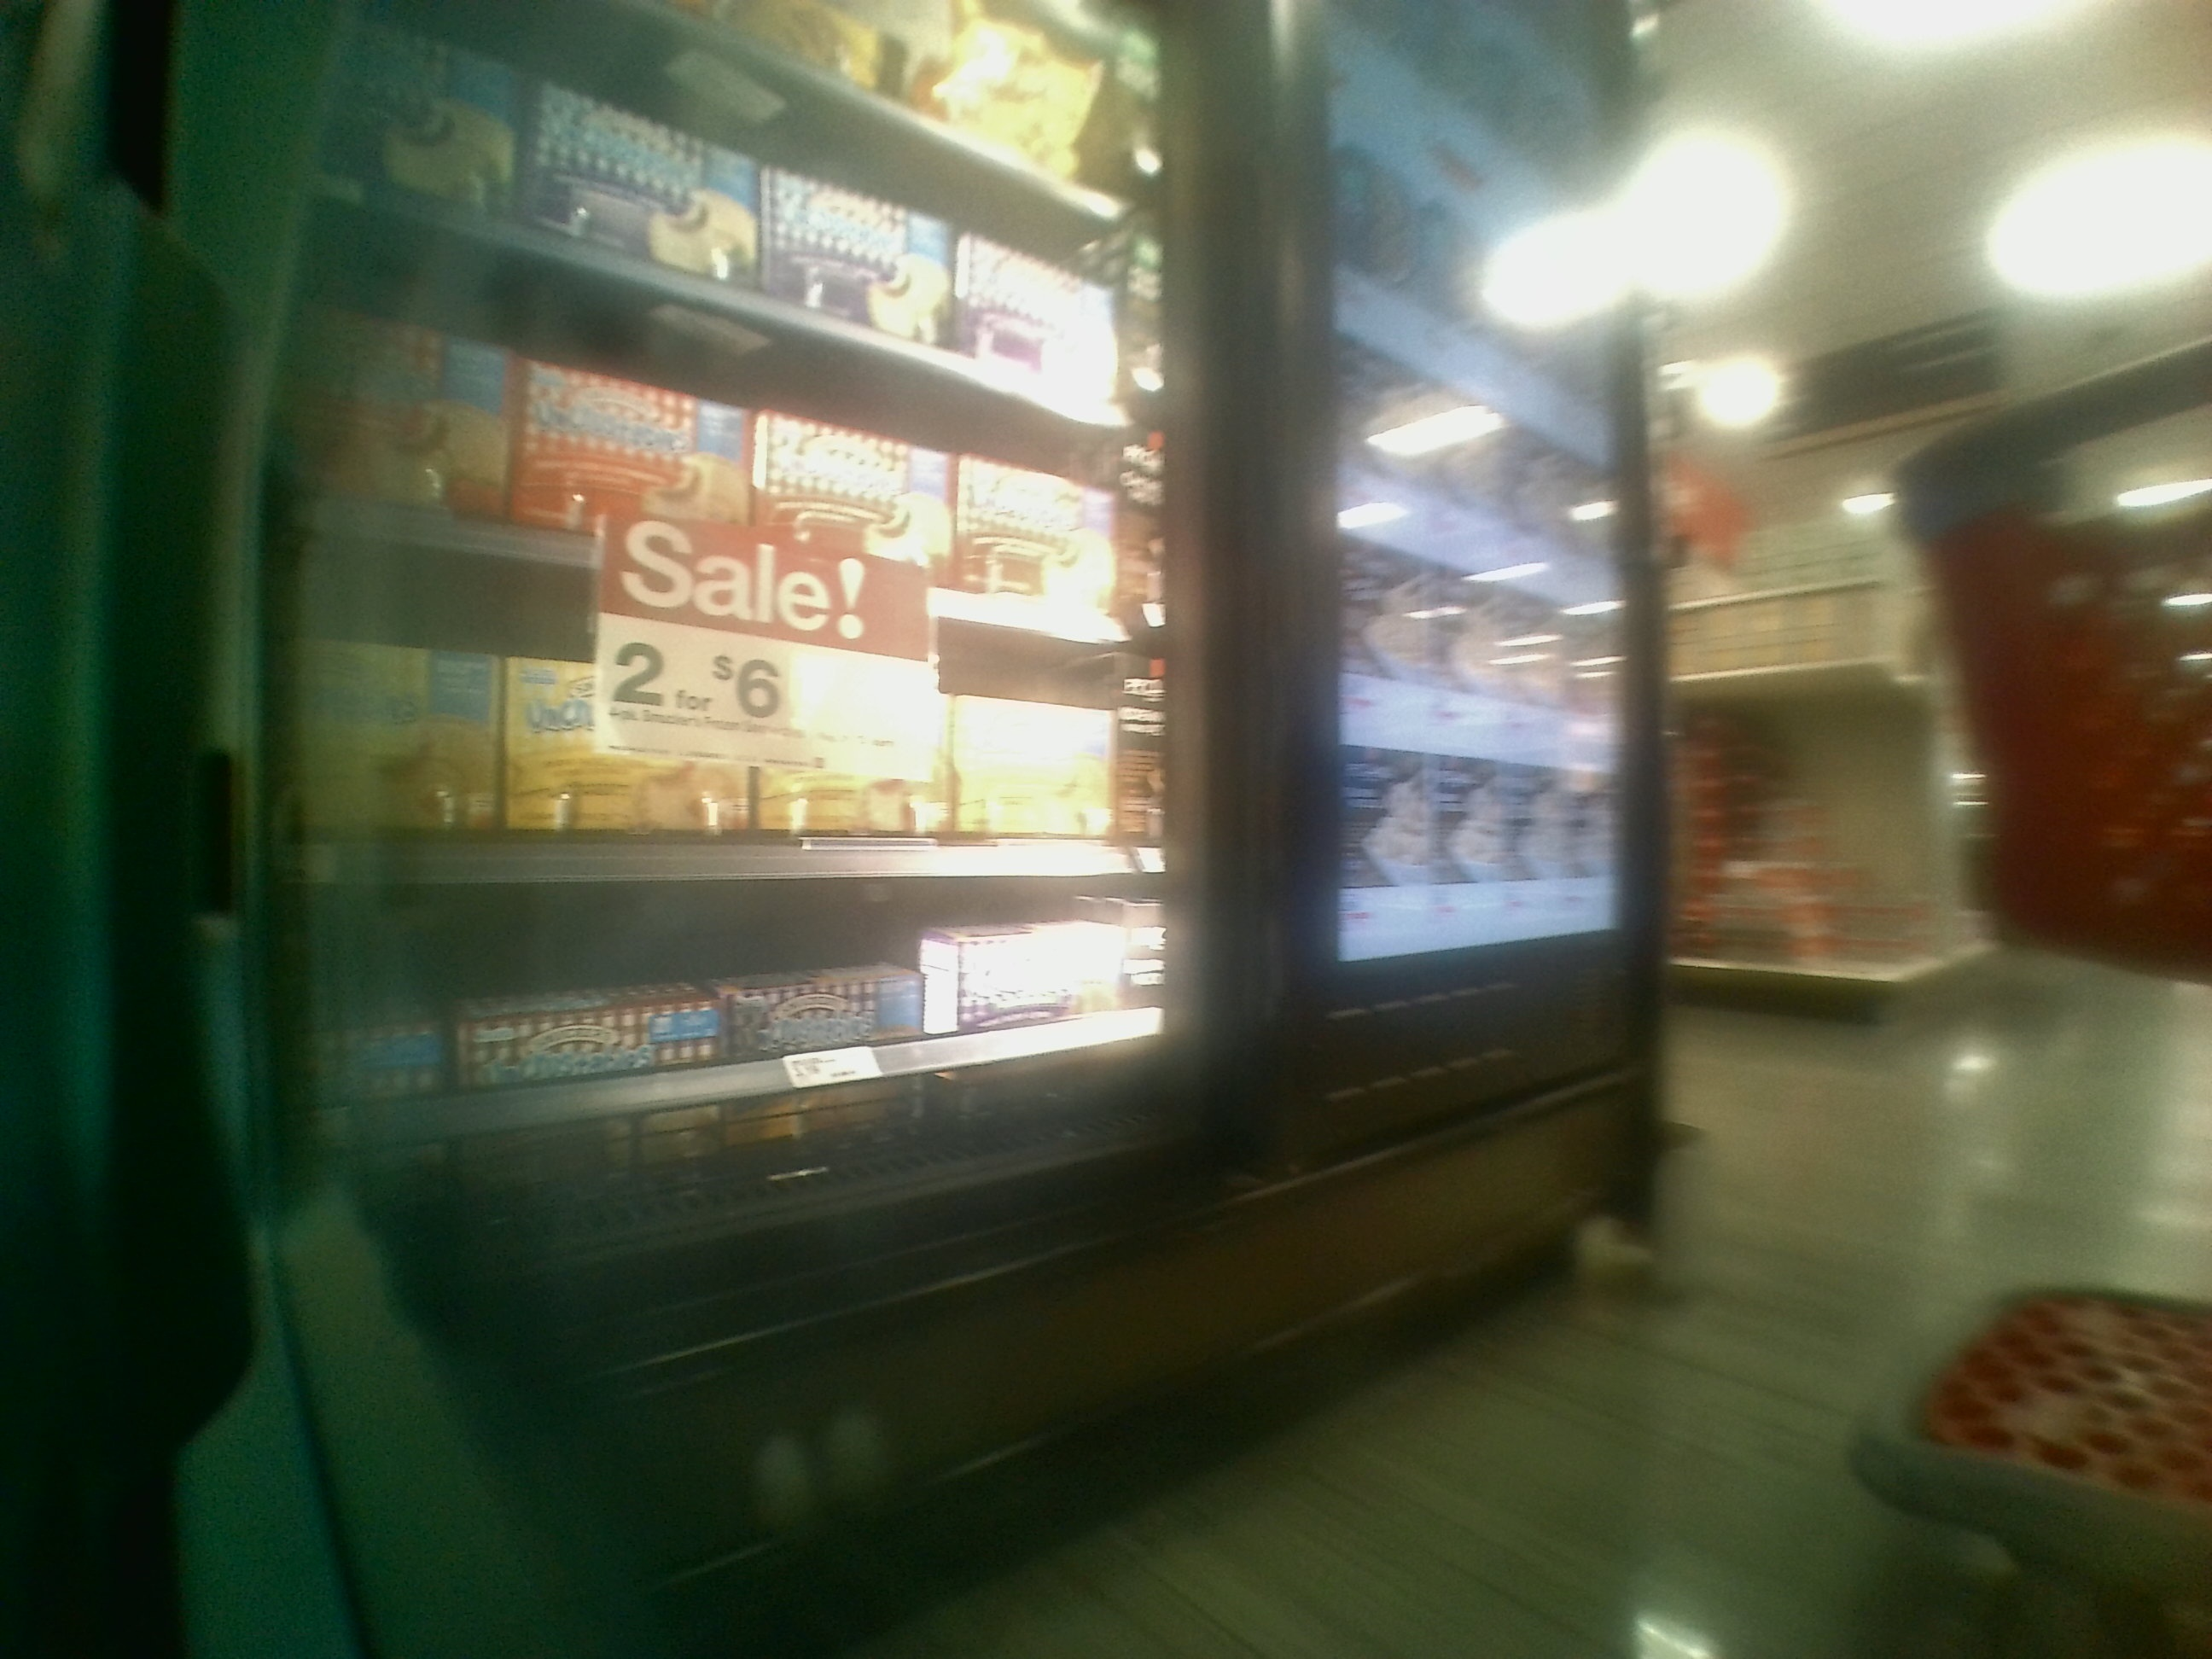shelf: (265, 530, 1167, 877), (296, 861, 1165, 1079)
